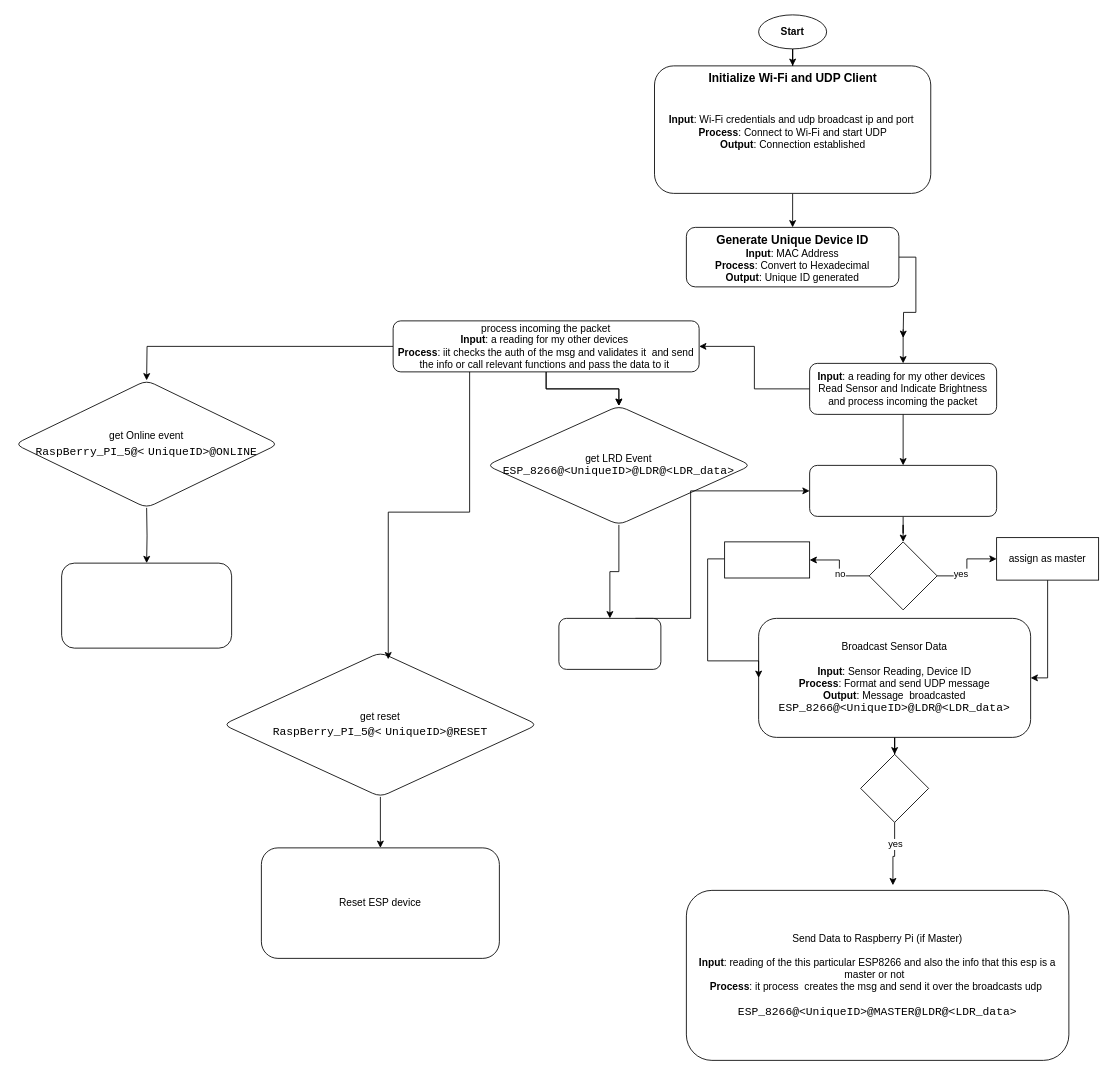
The diagram is 1114 pixels wide and 1075 high, and some of its shapes have lost their labels. The shapes that lost their labels are listed below. From the top down, each one's centre as x and y in pixels, then its label:
point (903, 490): Receive and Process Data whoever's reading is high became the master
point (767, 559): assign as non master
point (902, 575): if highest reading ?
point (146, 605): make the device state as online
point (609, 643): configure the ESp8266, if not and save the LDR reading
point (894, 788): if master ?
